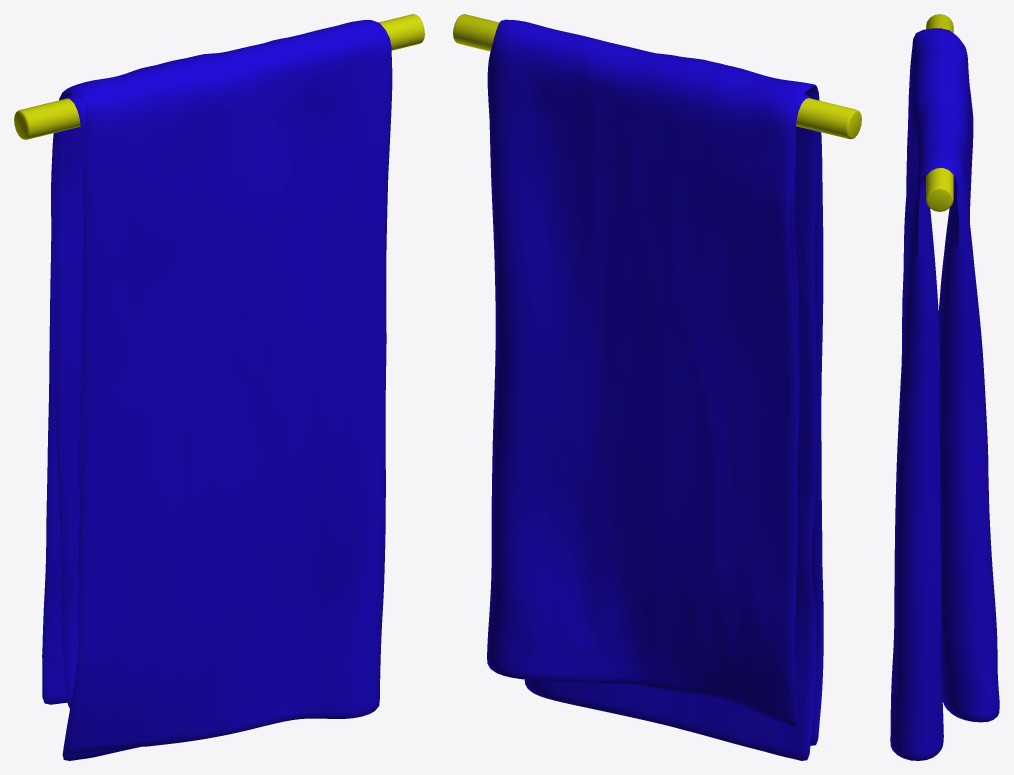
3 renders of one model, left to right at view 1: azimuth 30°, elevation 25°; view 2: azimuth 150°, elevation 25°; view 3: azimuth 270°, elevation 25°, orthographic. The views are drawn at different scales.
Visible parts, largest first — view 1: 2; view 2: 2; view 3: 2.
Part boxes in pixels (x1,y1,x2,y2): 2: [14, 14, 424, 760]; 2: [453, 14, 861, 760]; 2: [890, 14, 999, 760].
Size of the model in its own units: 47.77 by 77.65 by 12.62.
